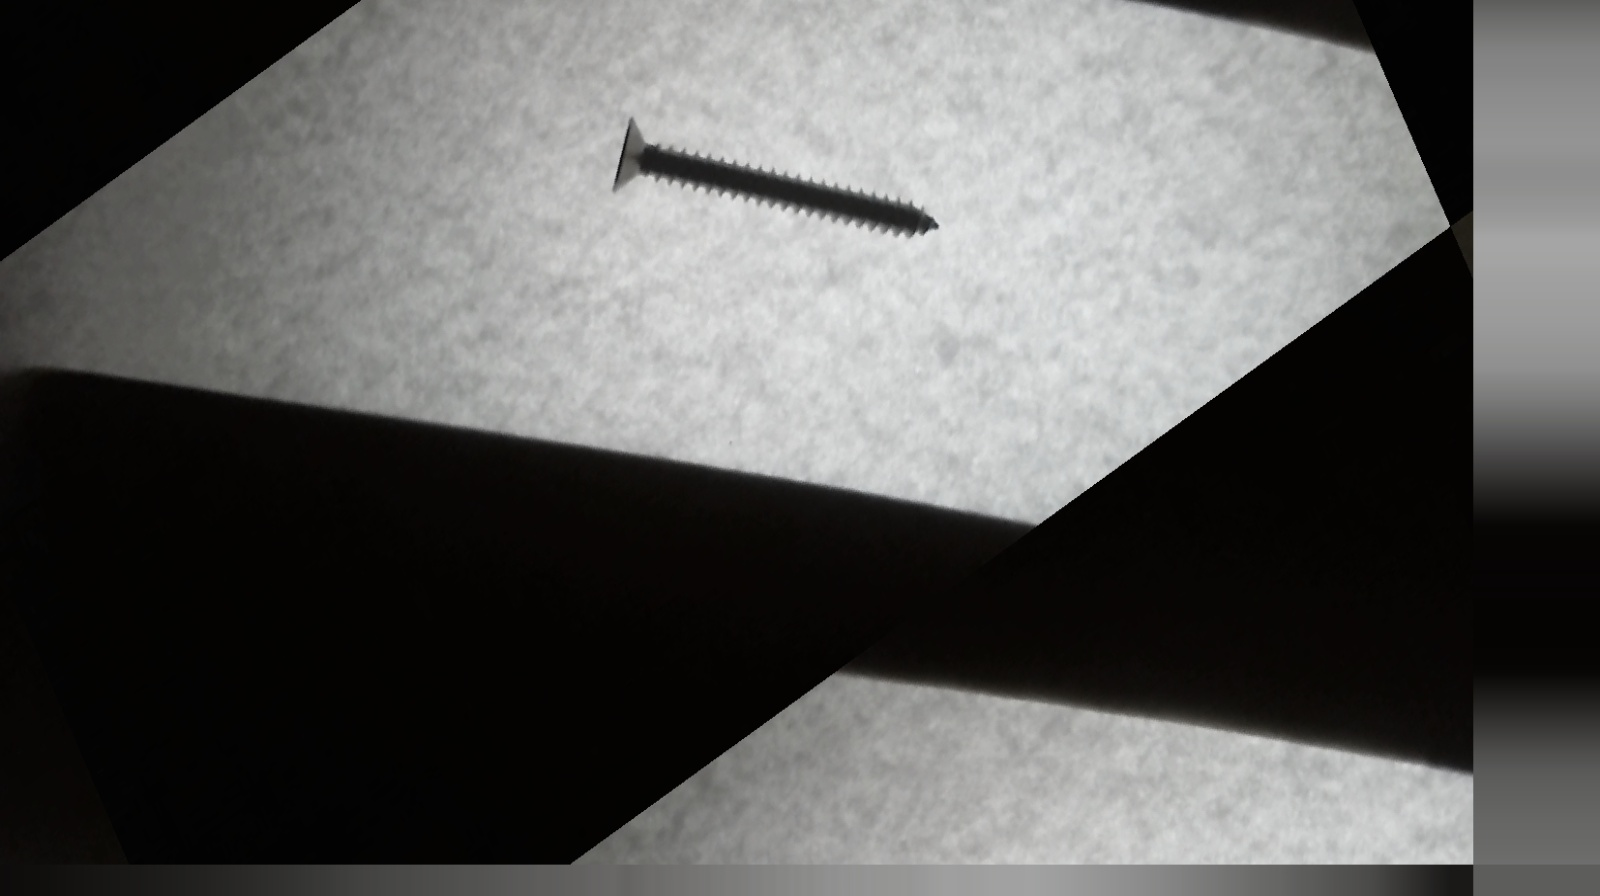S002: (585, 0, 949, 412)
